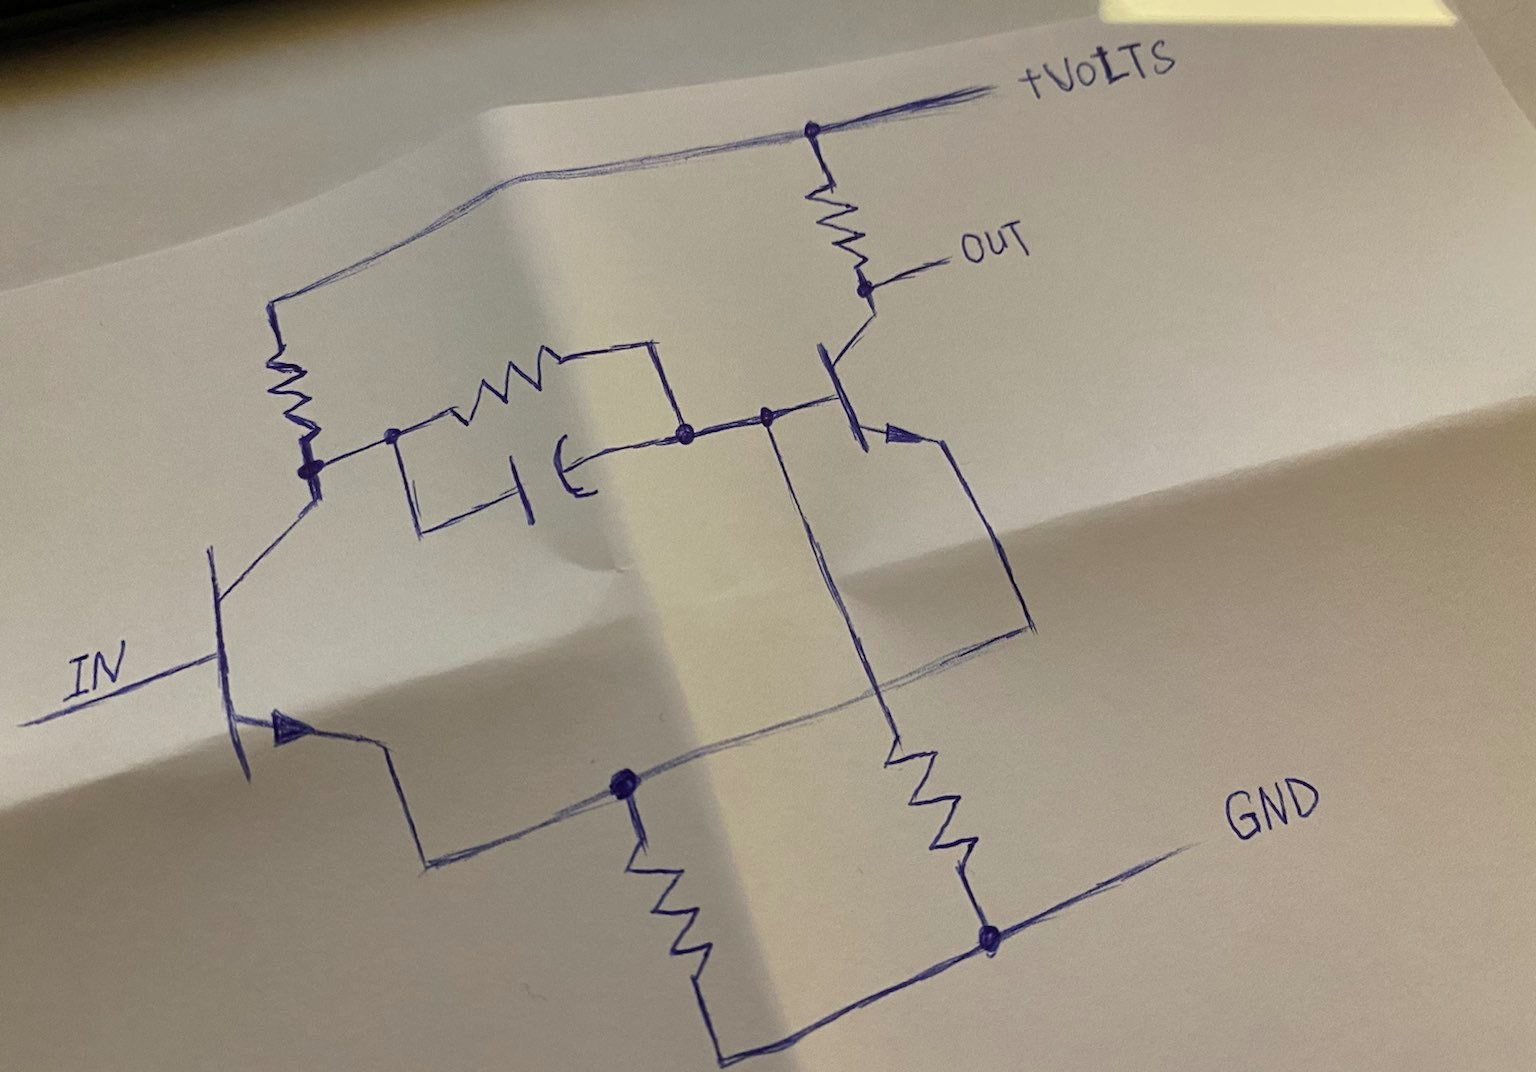capacitor.unpolarized: (493, 433, 609, 532)
crossover: (849, 664, 907, 715)
junction: (587, 745, 657, 809), (961, 913, 1027, 970), (403, 840, 456, 897), (398, 510, 446, 559), (694, 1033, 754, 1072), (1003, 603, 1050, 648), (743, 397, 791, 441), (784, 105, 835, 147), (661, 415, 708, 455), (629, 328, 673, 369), (371, 415, 412, 455), (251, 281, 293, 321), (293, 454, 333, 485), (854, 276, 884, 308)
resistor: (623, 838, 715, 980), (884, 738, 980, 872), (437, 344, 574, 424), (801, 179, 870, 270), (265, 344, 326, 447)
terminal: (1144, 827, 1219, 873), (943, 76, 1012, 114), (8, 705, 67, 738), (921, 246, 959, 281)
text: (1045, 39, 1175, 95), (1222, 777, 1324, 840), (961, 218, 1040, 262), (61, 642, 120, 695), (1015, 61, 1043, 103)
transistor: (203, 500, 390, 773), (811, 314, 958, 455)
